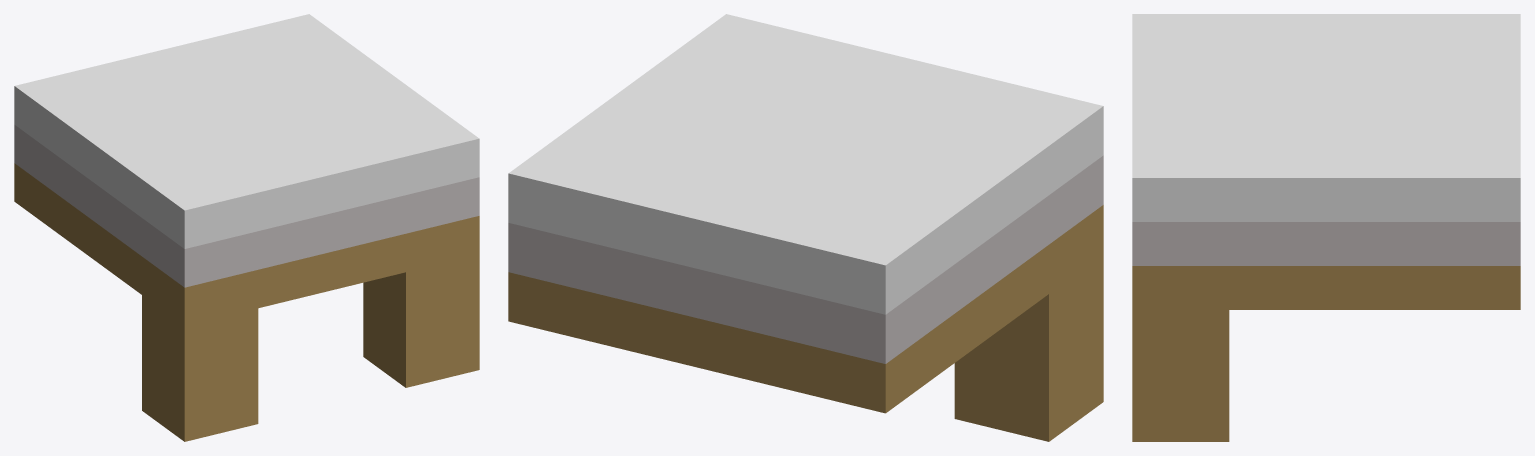
Rendered from White Bed.glb.
3 views of the same model, side by side, from view 1: azimuth 30°, elevation 25°; view 2: azimuth 150°, elevation 25°; view 3: azimuth 270°, elevation 25° (orthographic). The views are drawn at different scales.
Parts seen in each view (by area): view 1: Untitled; view 2: Untitled; view 3: Untitled.
Part boxes in pixels (<box>): Untitled: <box>14,14,479,441</box>; Untitled: <box>508,14,1103,441</box>; Untitled: <box>1132,14,1520,441</box>.
Size of the model in its own units: 1.6 by 1.2 by 1.6.
Materials: 1 (1 with a texture image).
